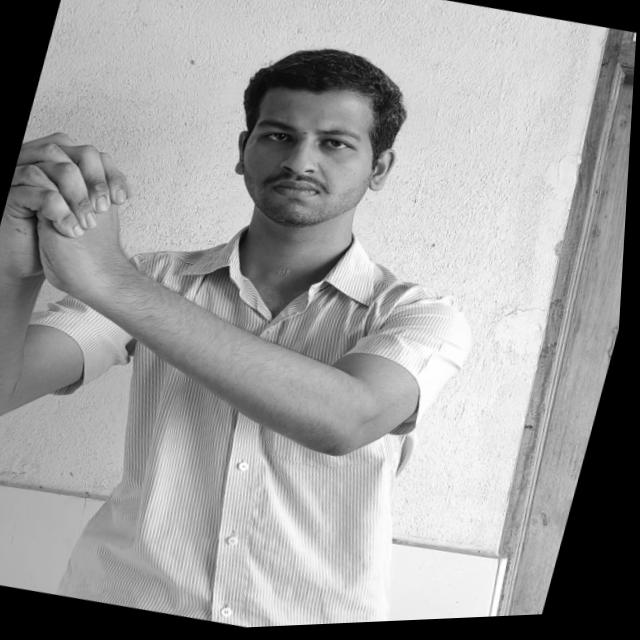Sorry: (0, 118, 148, 292)
